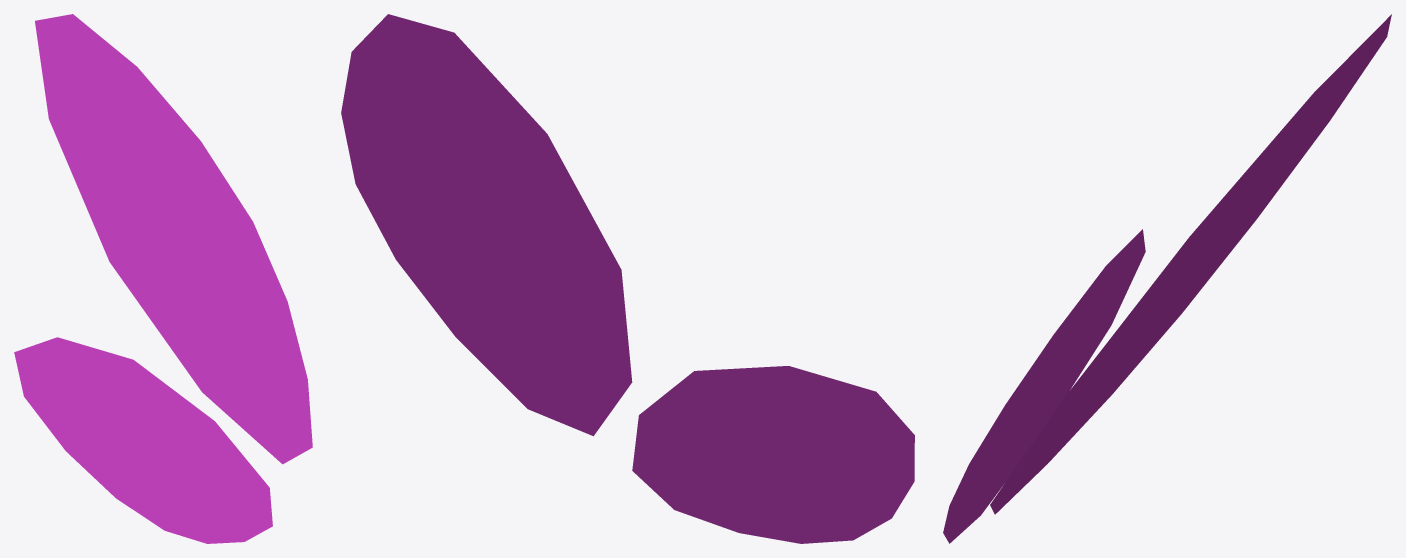
File: pink_frower2.fbx
3 renders of one model, left to right at view 1: azimuth 30°, elevation 25°; view 2: azimuth 150°, elevation 25°; view 3: azimuth 270°, elevation 25°, orthographic. The views are drawn at different scales.
Visible parts, largest first — view 1: frower_pink.001; view 2: frower_pink.001; view 3: frower_pink.001.
Part boxes in pixels (bbox=[...]): frower_pink.001: bbox=[14, 14, 312, 543]; frower_pink.001: bbox=[341, 14, 914, 543]; frower_pink.001: bbox=[943, 14, 1391, 543].
Size of the model in its own units: 16.94 by 24.17 by 19.67.
